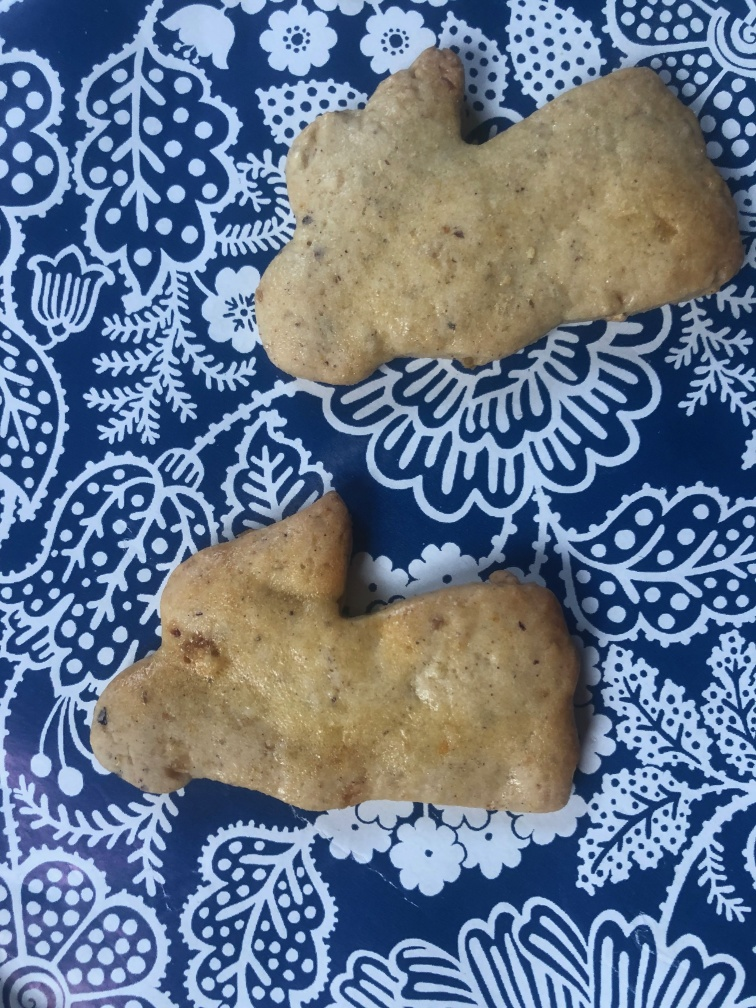angel: (248, 33, 755, 390), (87, 483, 591, 817)
